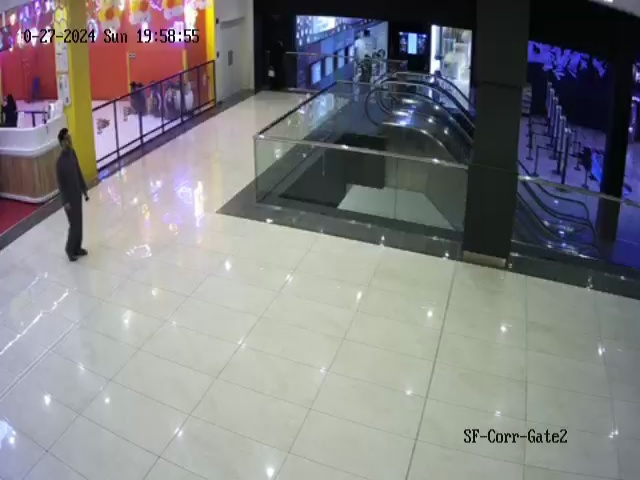employee: (2, 94, 18, 127)
male: (55, 128, 90, 262)
